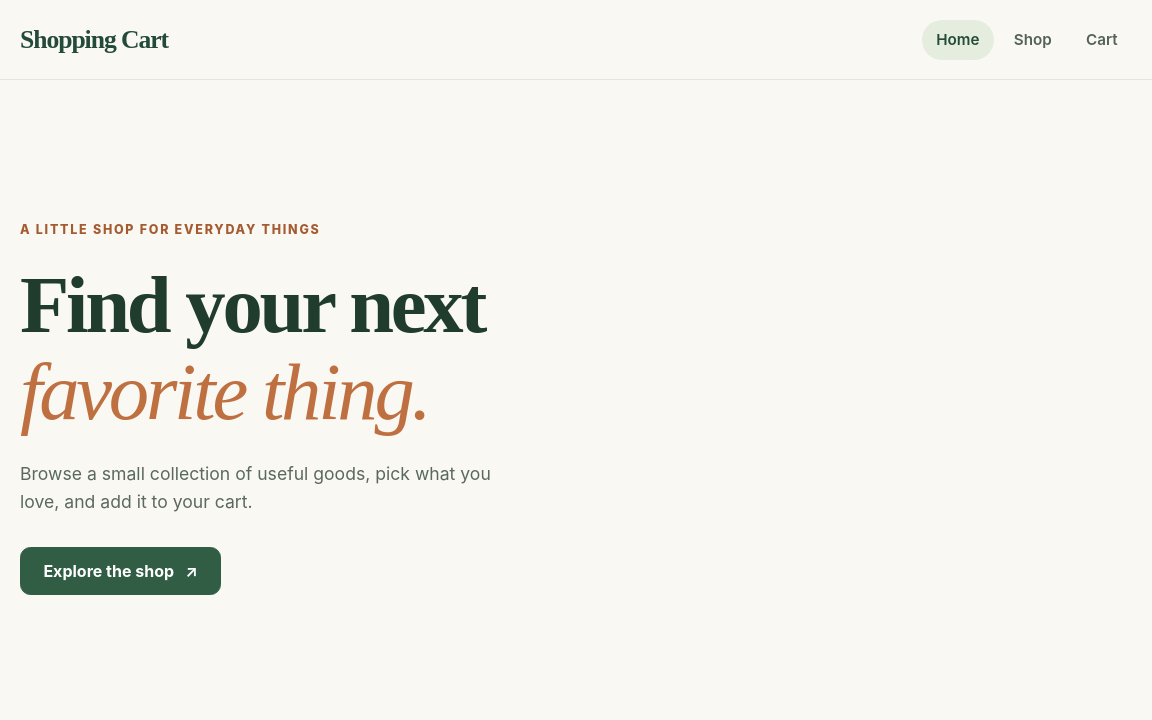
shopping flow › shows the home page and loads products when a shopper opens the shop
Check: the heading "Find your next favorite thing." is shown, box [20, 260, 484, 436]
Click the link "Explore the shop ↗". click: (121, 571)
box: [20, 547, 221, 595]
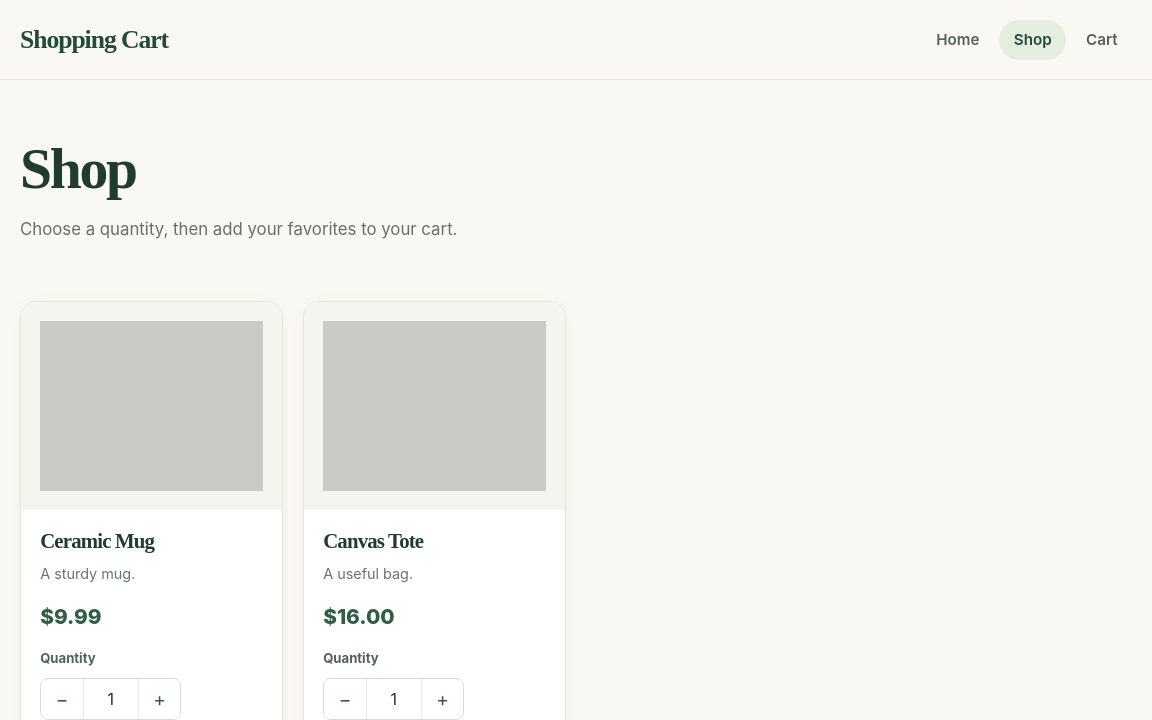
Check: the heading "Ceramic Mug" is shown, box [40, 529, 154, 552]
Check: the heading "Shop" is shown, box [20, 137, 136, 200]
Check: the heading "Canvas Tote" is shown, box [323, 529, 423, 552]
